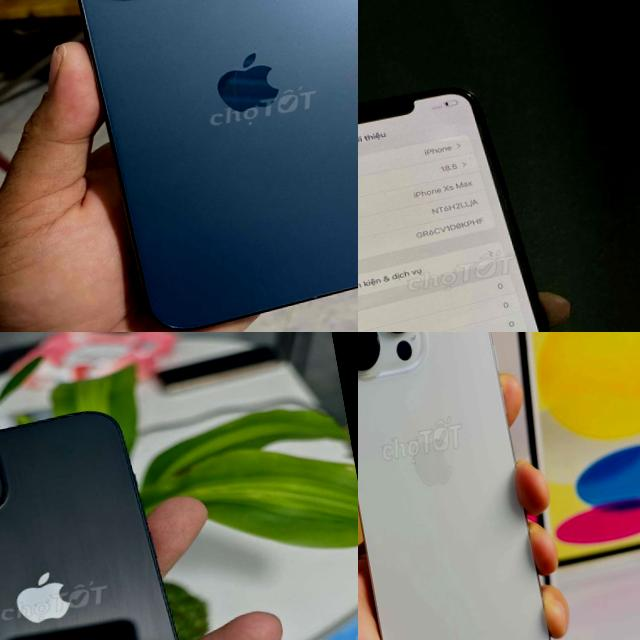gen_12_13: (55, 0, 358, 332), (0, 396, 213, 640)
gen_15: (358, 332, 566, 640)
gen_x_xs: (358, 58, 600, 332)
